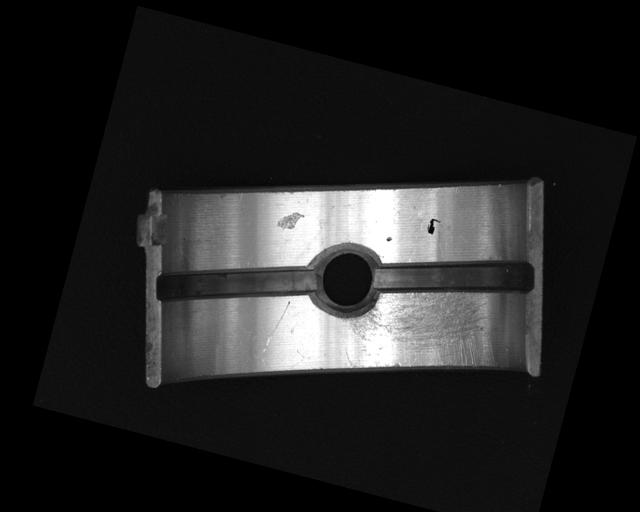blot: (424, 216, 442, 237)
bruise: (274, 207, 305, 235), (385, 235, 393, 242)
gap: (155, 230, 320, 336), (370, 225, 538, 325)
hole: (301, 235, 389, 323)
nick: (262, 296, 291, 355)
scratch: (338, 255, 515, 403)
